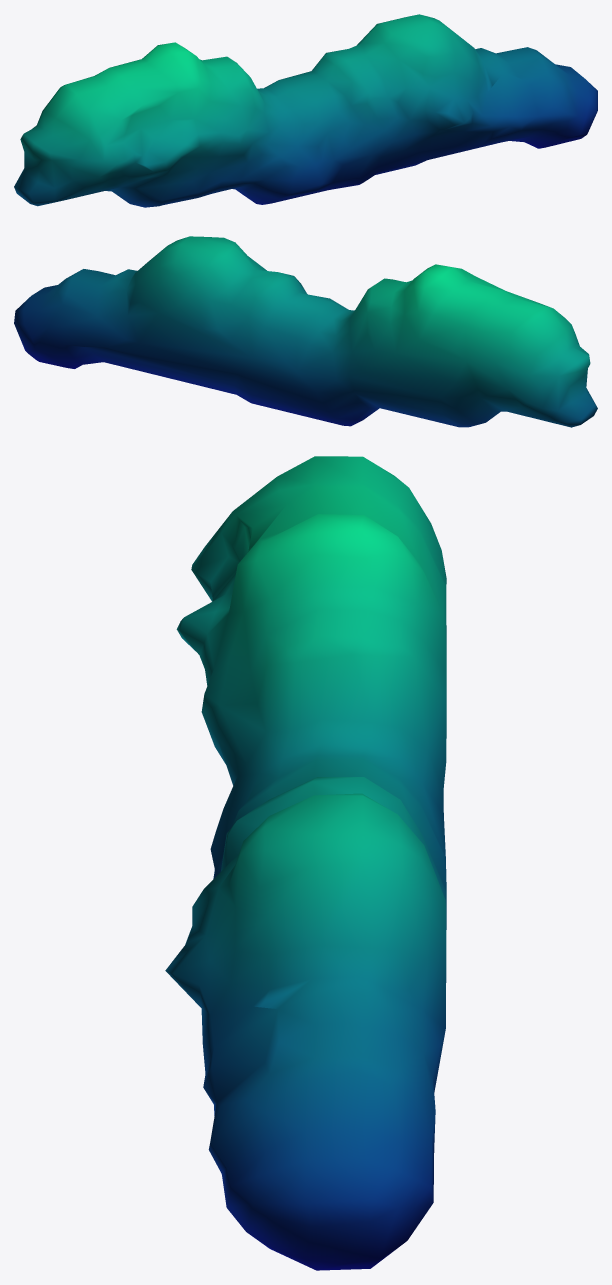
The model's file is env_sky_cloudlow_3.fbx.
3 views of the same model, one above another, from view 1: azimuth 30°, elevation 25°; view 2: azimuth 150°, elevation 25°; view 3: azimuth 270°, elevation 25° (orthographic). The views are drawn at different scales.
Parts seen in each view (by area): view 1: env_sky_cloudlow_3; view 2: env_sky_cloudlow_3; view 3: env_sky_cloudlow_3.
Boxes of the visible parts, x1,y1,x2,y2 form: env_sky_cloudlow_3: (14, 14, 597, 207); env_sky_cloudlow_3: (14, 236, 597, 427); env_sky_cloudlow_3: (165, 456, 446, 1270).
Bounding box in the file's own units: 5.54 × 1.69 × 1.19.
